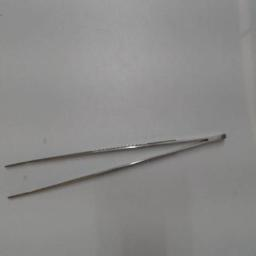DeBakey Dissector: (1, 128, 229, 204)
